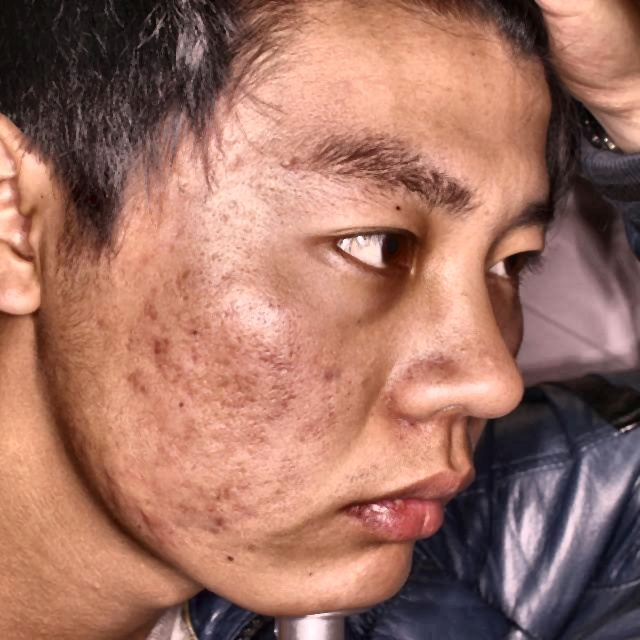pustule: (147, 333, 177, 358), (128, 366, 155, 391), (139, 499, 160, 529), (202, 514, 227, 538), (276, 156, 304, 174), (318, 369, 348, 383)
